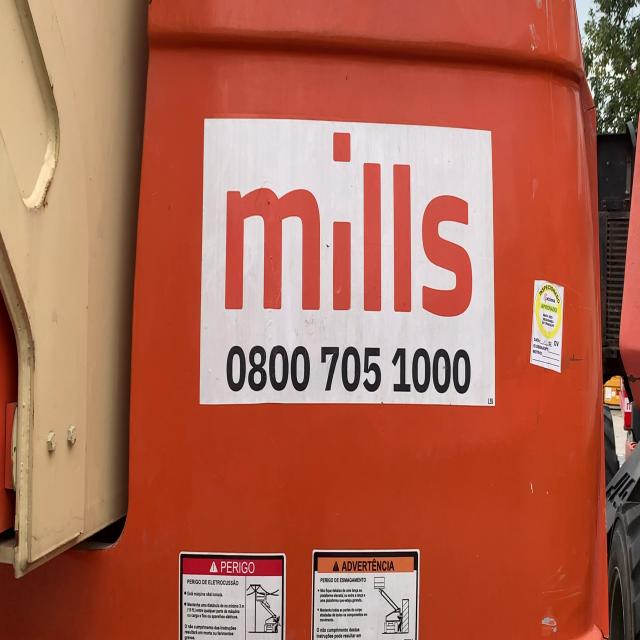Adesivos: (196, 110, 505, 410)
